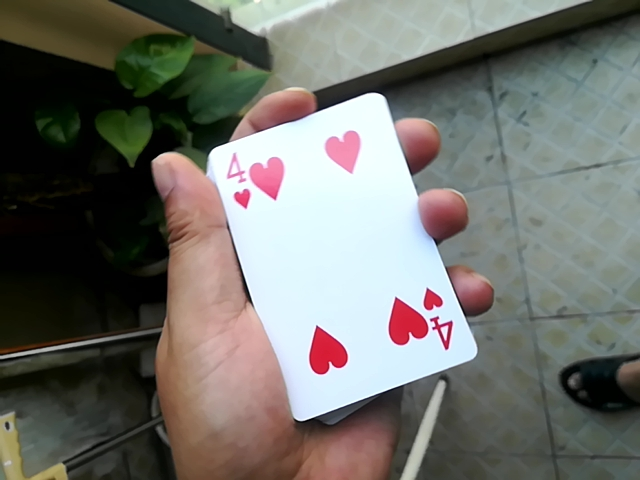hx 4: (195, 90, 458, 434)
